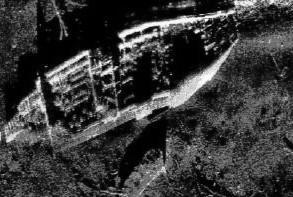ship: (1, 7, 241, 154)
